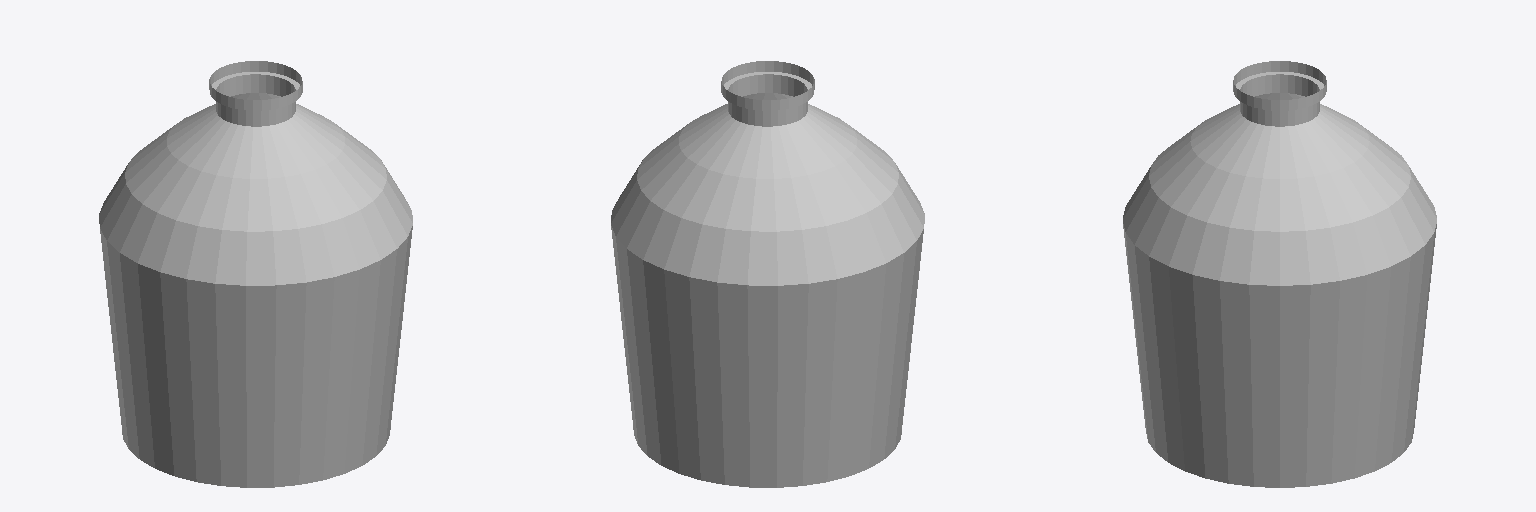
The model's file is pitcher_two.obj.
The picture shows the model from 3 angles: view 1: azimuth 30°, elevation 25°; view 2: azimuth 150°, elevation 25°; view 3: azimuth 270°, elevation 25°; orthographic projection.
Parts seen in each view (by area): view 1: Circle; view 2: Circle; view 3: Circle.
Part boxes in pixels (x1,y1,x2,y2): Circle: (99,61,412,487); Circle: (611,61,924,487); Circle: (1123,61,1436,487).
Bounding box in the file's own units: 0.5278 × 0.6487 × 0.5278.